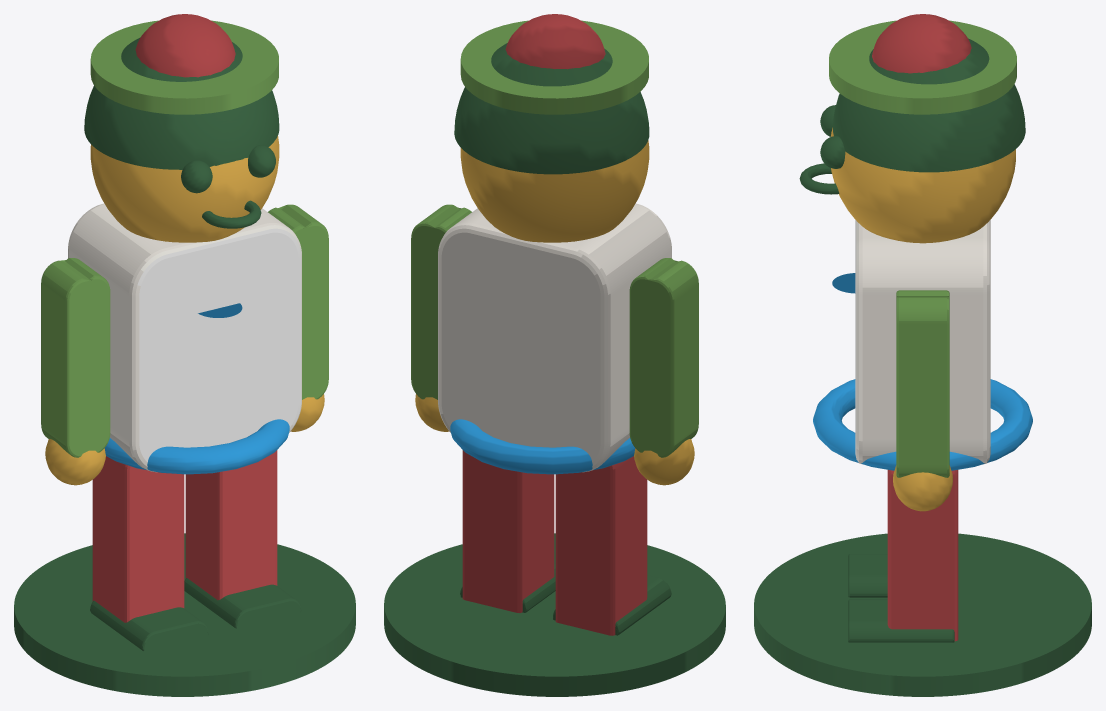
File: 1103_左传_狄人首领.glb
3 renders of one model, left to right at view 1: azimuth 30°, elevation 25°; view 2: azimuth 150°, elevation 25°; view 3: azimuth 270°, elevation 25°, orthographic.
Visible parts, largest first — view 1: card_1103; view 2: card_1103; view 3: card_1103.
Part boxes in pixels (x1,y1,x2,y2): card_1103: [14, 14, 355, 696]; card_1103: [384, 14, 725, 696]; card_1103: [754, 14, 1091, 696].
Size of the model in its own units: 0.5128 by 1 by 0.5057.
